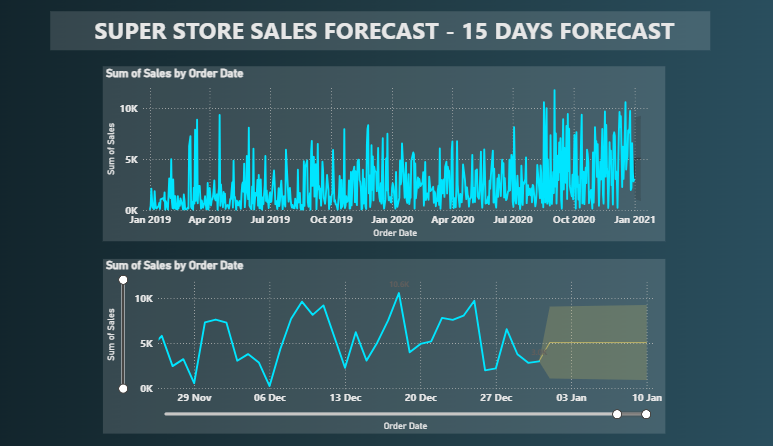

The dashboard page shown, as its layout file describes it:
{"tool":"powerbi","page":{"name":"Page 2","canvas":[1280,720],"ordinal":1},"visuals":[{"type":"lineChart","fields":{"Y":["Sum(SuperStore_Sales_Dataset.Sales)"],"Category":["SuperStore_Sales_Dataset.Order Date"]},"box":[190,105,900,280],"z":0},{"type":"lineChart","fields":{"Y":["Sum(SuperStore_Sales_Dataset.Sales)"],"Category":["SuperStore_Sales_Dataset.Order Date"]},"box":[190,413.3,900,280],"z":1000},{"type":"textbox","box":[106,18,1056,62],"z":1001}]}

Visuals, with their boxes in screenshot pixels (x1, y1, x2, y2), scaled from the page's 1280x720 canvas onto the 773x446 screenshot:
lineChart - Sum(SuperStore_Sales_Dataset.Sales) x SuperStore_Sales_Dataset.Order Date: bbox=(115, 65, 658, 238)
lineChart - Sum(SuperStore_Sales_Dataset.Sales) x SuperStore_Sales_Dataset.Order Date: bbox=(115, 256, 658, 429)
textbox: bbox=(64, 11, 702, 50)
